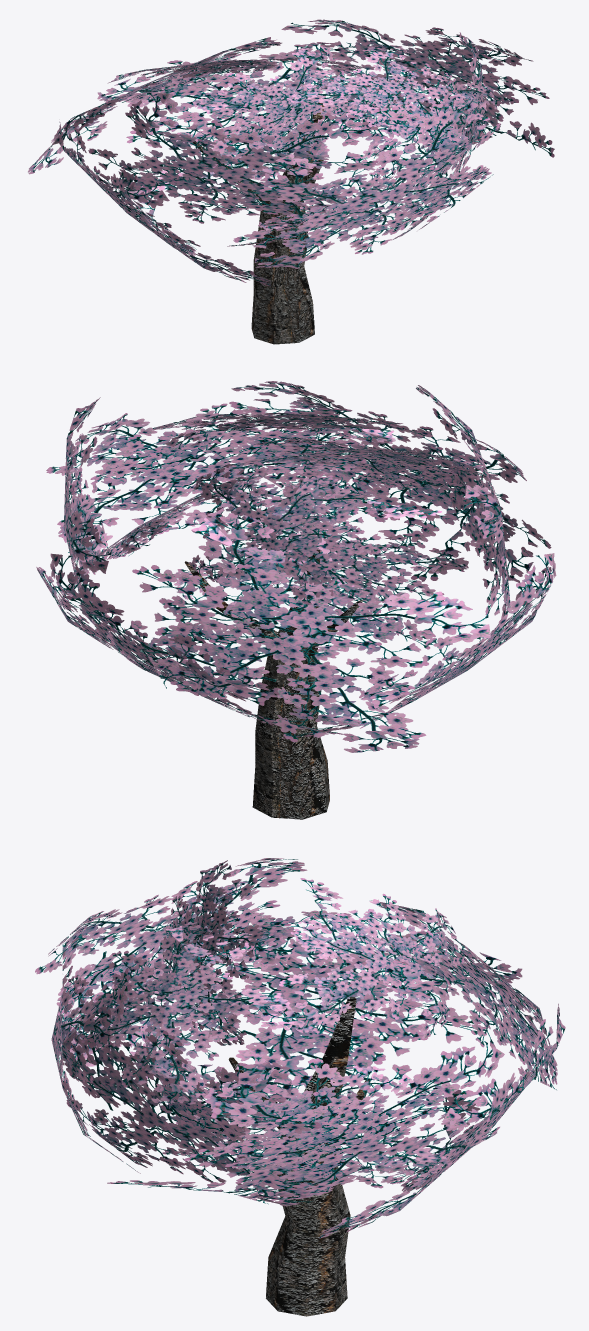
Rendered from arbol-rosaRaro.fbx.
3 renders of one model, top to bottom at view 1: azimuth 30°, elevation 25°; view 2: azimuth 150°, elevation 25°; view 3: azimuth 270°, elevation 25°, orthographic. The views are drawn at different scales.
Parts seen in each view (by area): view 1: rosaRaro; view 2: rosaRaro; view 3: rosaRaro.
Part boxes in pixels (x1,y1,x2,y2): rosaRaro: (28, 19, 554, 344); rosaRaro: (36, 381, 556, 819); rosaRaro: (35, 858, 565, 1316).
Size of the model in its own units: 39.38 by 33.49 by 25.01.
